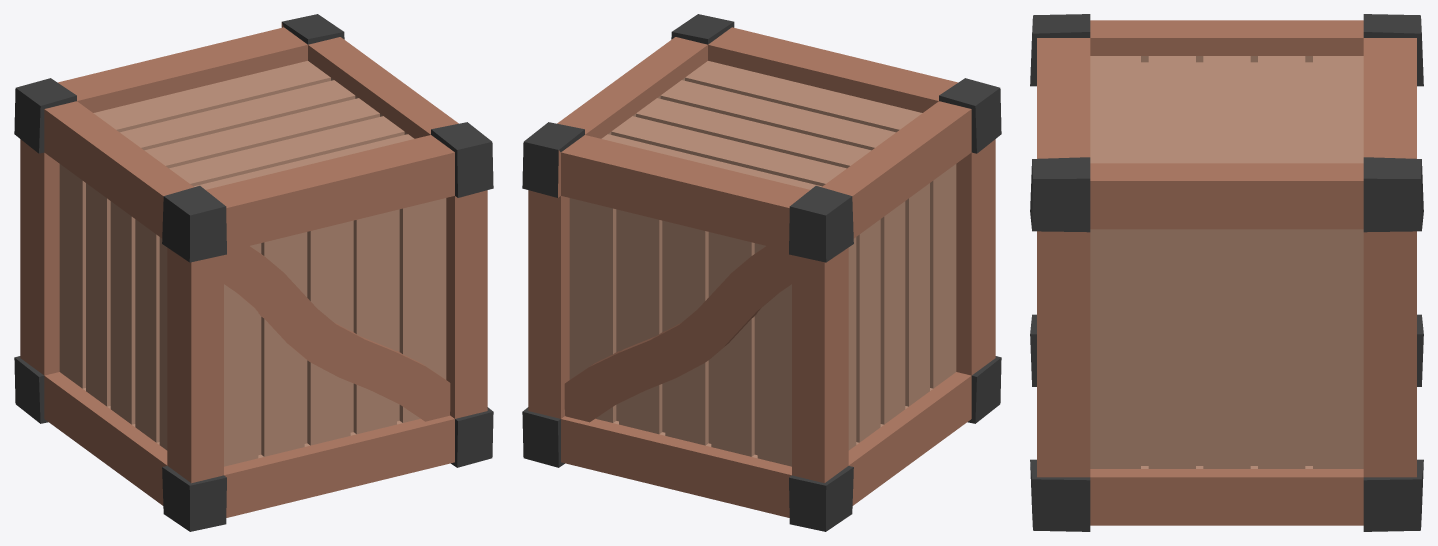
The model's file is wooden_crate.fbx.
3 views of the same model, side by side, from view 1: azimuth 30°, elevation 25°; view 2: azimuth 150°, elevation 25°; view 3: azimuth 270°, elevation 25° (orthographic). The views are drawn at different scales.
Visible parts, largest first — view 1: Cube, Cube.001, Cube.002; view 2: Cube, Cube.001, Cube.003; view 3: Cube, Cube.001.
Part boxes in pixels (x1=…): Cube: x1=14, y1=14, x2=493, y2=531; Cube.001: x1=59, y1=61, x2=446, y2=466; Cube.002: x1=224, y1=246, x2=450, y2=421; Cube: x1=522, y1=14, x2=1001, y2=531; Cube.001: x1=569, y1=61, x2=956, y2=466; Cube.003: x1=564, y1=246, x2=791, y2=422; Cube: x1=1030, y1=14, x2=1423, y2=531; Cube.001: x1=1090, y1=56, x2=1363, y2=468.
Bounding box in the file's own units: 207 × 207 × 207.
